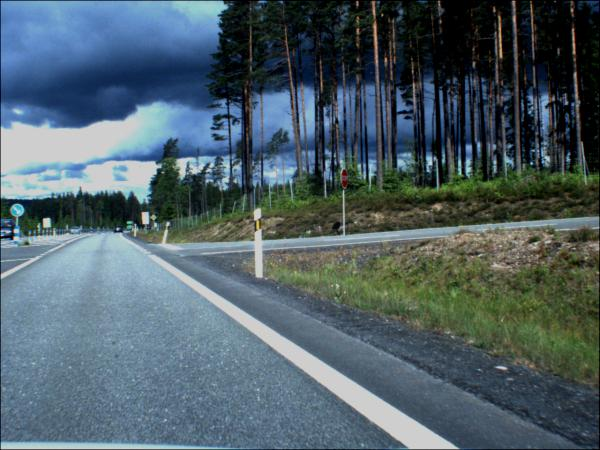PASS_RIGHT_SIDE: (11, 205, 26, 218)
PRIORITY_ROAD: (152, 215, 159, 223)
STOP: (341, 170, 351, 190)
